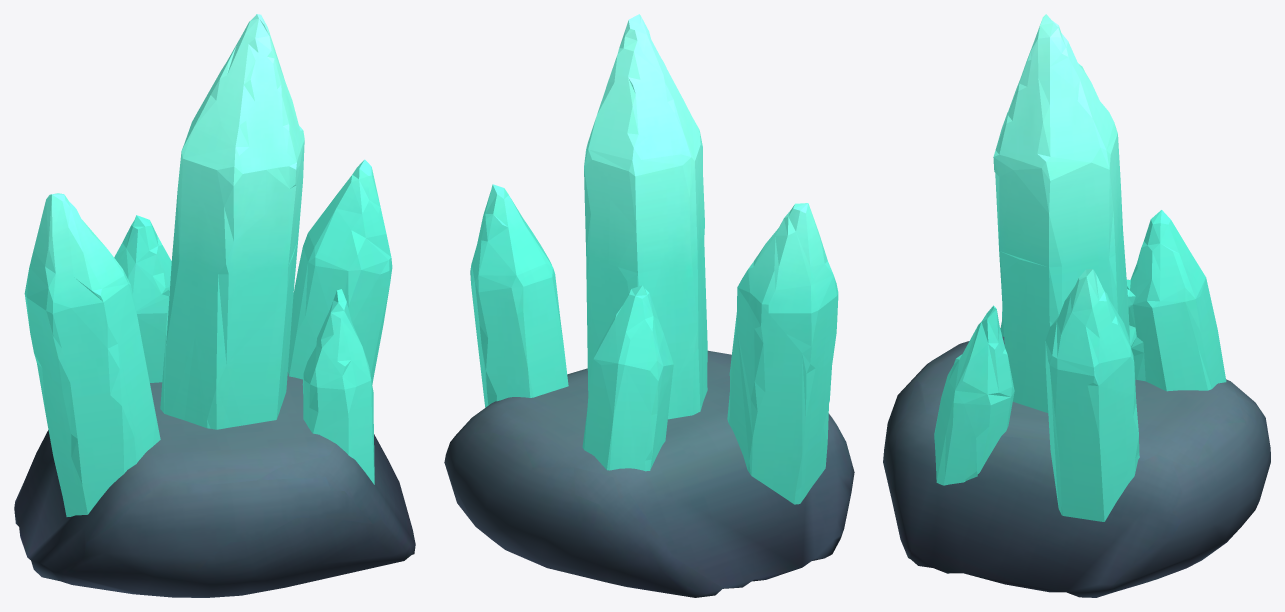
File: crystal-cluster.glb
3 views of the same model, side by side, from view 1: azimuth 30°, elevation 25°; view 2: azimuth 150°, elevation 25°; view 3: azimuth 270°, elevation 25° (orthographic). The views are drawn at different scales.
Parts seen in each view (by area): view 1: crystal, rock; view 2: crystal, rock; view 3: crystal, rock.
Boxes of the visible parts, x1,y1,x2,y2 form: crystal: [24, 14, 392, 516]; rock: [14, 372, 415, 597]; crystal: [470, 14, 838, 504]; rock: [444, 350, 854, 597]; crystal: [934, 14, 1226, 521]; rock: [883, 336, 1270, 597].
Size of the model in its own units: 0.3399 by 0.4581 by 0.316.
2 materials, 2 textured.
